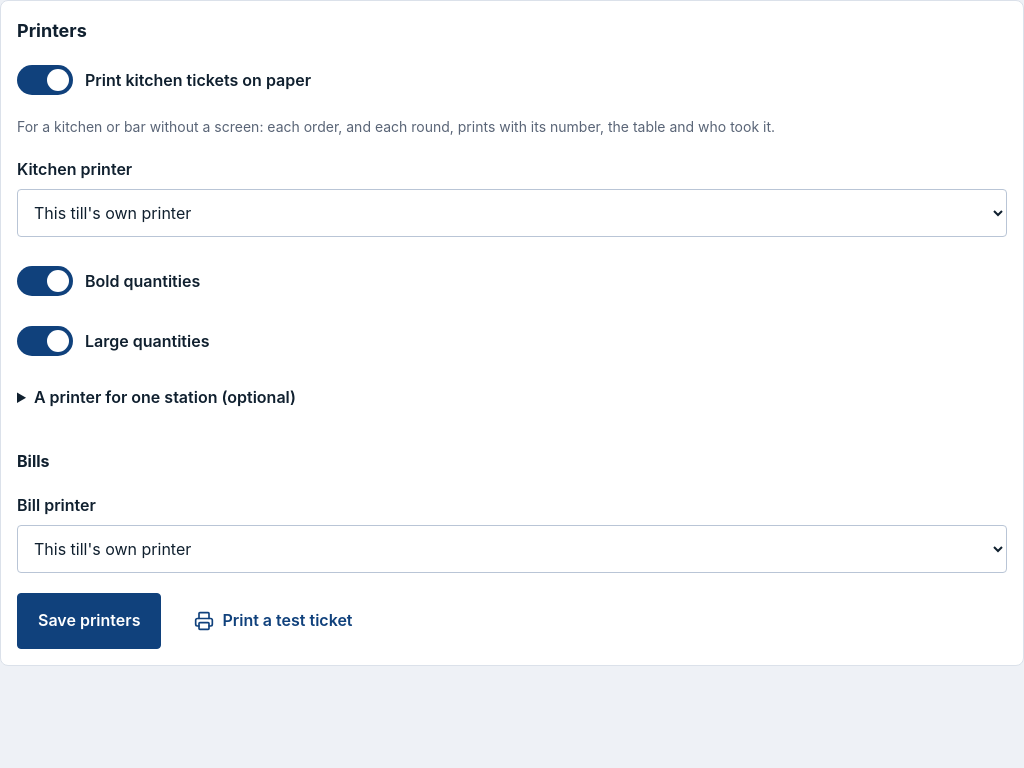
Scenario: Status → Printers (S8a) › a till whose kitchen has a screen prints no kitchen tickets
Click the switch with test id "kitchen-tickets-on". click: (45, 80)
box: [17,56,73,104]
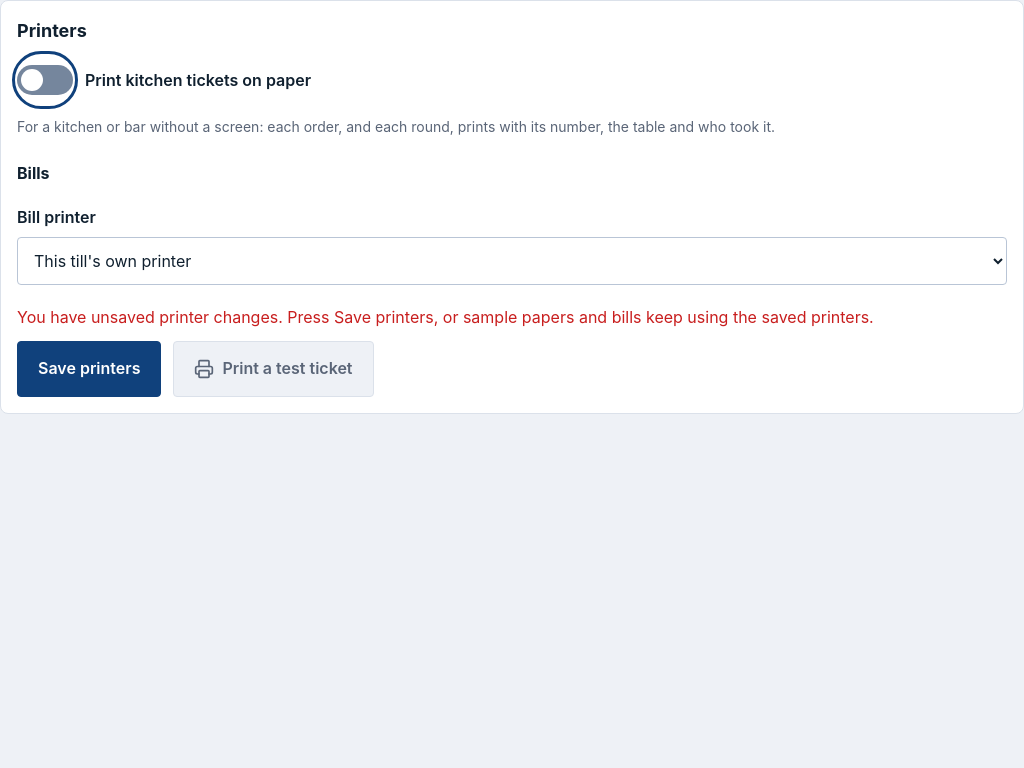
Expected: the element with test id "kitchen-printer" is gone
Click the button with test id "save-printers". click: (89, 369)
box: [17,341,161,397]
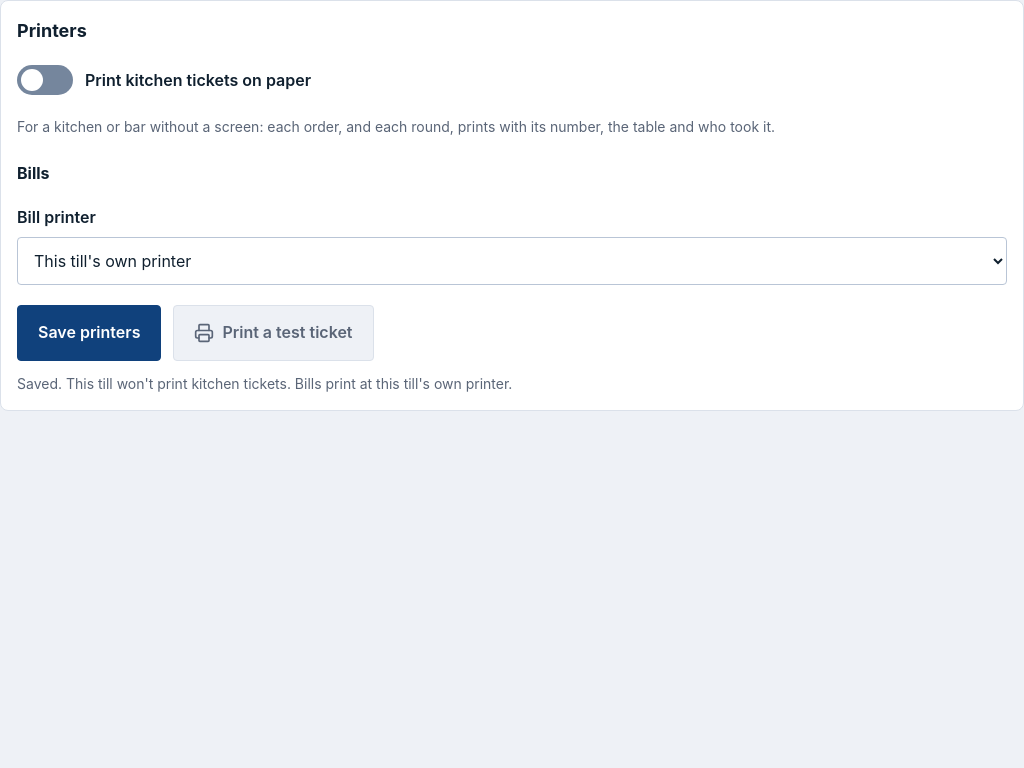
Expected: the message with test id "printers-words" shows "Saved. This till won't print kitchen tickets.", [17,375,512,392]
